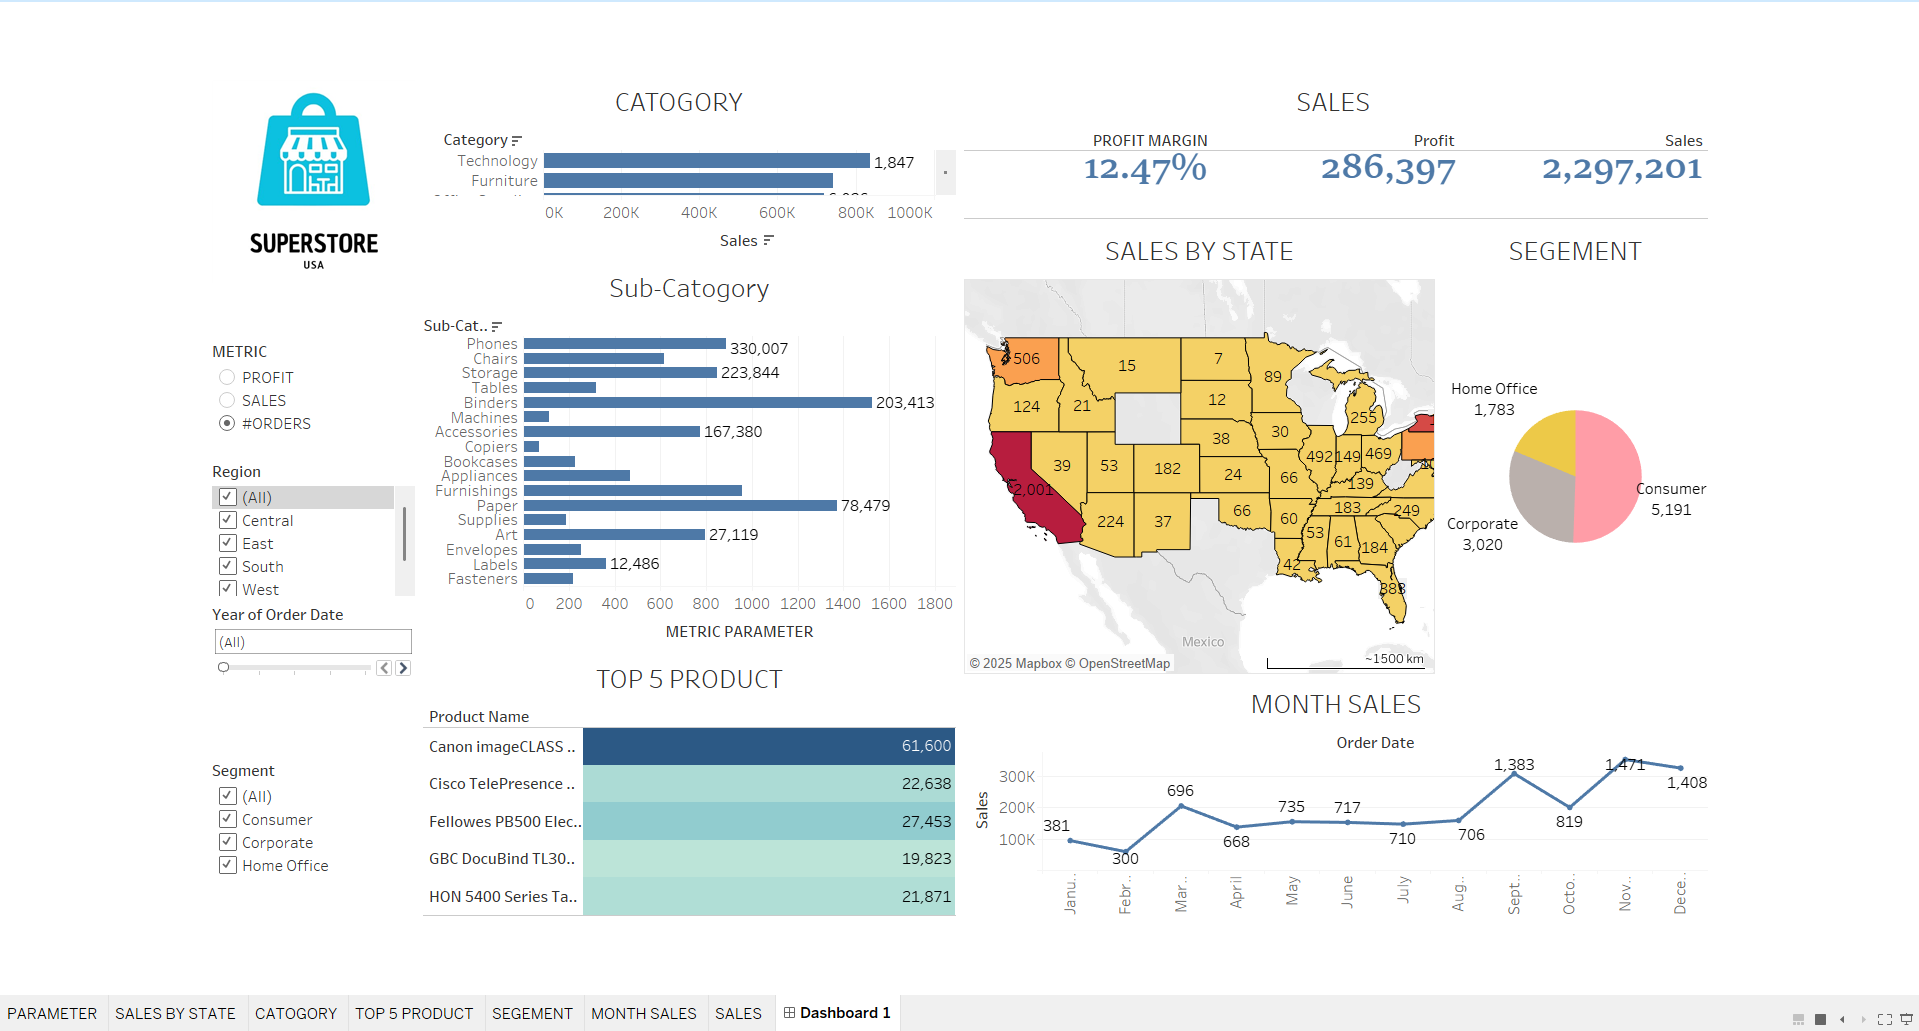

This screenshot's page, from the dashboard's own definition file:
{"tool":"tableau","page":{"name":"Dashboard 1","canvas":[1000,1000],"units":"permille","ordinal":0},"visuals":[{"type":"image","param":"Image/STORE IMAGE.jpg","box":[5.3,10,138.8,303]},{"type":"worksheet","title":"CATOGORY","mark":"Automatic","rows":["Category"],"cols":["Sales"],"box":[144.1,10,355.9,278]},{"type":"worksheet","title":"SALES ","mark":"Automatic","box":[500,10,494.7,245]},{"type":"worksheet","title":"SALES BY STATE","mark":"Automatic","box":[500,255,315.1,454.5]},{"type":"worksheet","title":"SEGEMENT","mark":"Pie","box":[815.1,255,179.7,454.5]},{"type":"worksheet","title":"PARAMETER","mark":"Automatic","rows":["Calculation_885801782291206144"],"cols":["Sub-Category"],"box":[144.1,288,355.9,346.7]},{"type":"parameter","param":"[Parameters].[Parameter 1]","box":[5.3,313,138.8,139.7]},{"type":"filter","title":"CATOGORY","param":"[federated.1yf2y2n0ebr9s113vox7b1q9b4ac].[none:Region:nk]","box":[5.3,452.6,138.8,165.8]},{"type":"filter","title":"PARAMETER","param":"[federated.1yf2y2n0ebr9s113vox7b1q9b4ac].[yr:Order Date:ok]","box":[5.3,618.5,138.8,180.8]},{"type":"worksheet","title":"TOP 5 PRODUCT","mark":"Automatic","rows":["Product Name"],"box":[144.1,634.6,355.9,355.4]},{"type":"worksheet","title":"MONTH SALES","mark":"Line","rows":["Sales"],"cols":["Order Date"],"box":[500,709.5,494.7,280.6]},{"type":"filter","title":"SEGEMENT","param":"[federated.1yf2y2n0ebr9s113vox7b1q9b4ac].[none:Segment:nk]","box":[5.3,799.2,138.8,190.8]}]}

Visuals, with their boxes on the dashboard's canvas, which has no fixed pixel size, in thousandths of its width and height (x1, y1, x2, y2). These are canvas units, not pixel positions in the 1919x1031 screenshot, which may show the page scaled, cropped or inside an application window:
image: bbox=(5, 10, 144, 313)
"CATOGORY" worksheet: bbox=(144, 10, 500, 288)
"SALES " worksheet: bbox=(500, 10, 995, 255)
"SALES BY STATE" worksheet: bbox=(500, 255, 815, 710)
"SEGEMENT" worksheet (Pie marks): bbox=(815, 255, 995, 710)
"PARAMETER" worksheet: bbox=(144, 288, 500, 635)
parameter: bbox=(5, 313, 144, 453)
"CATOGORY" filter: bbox=(5, 453, 144, 618)
"PARAMETER" filter: bbox=(5, 618, 144, 799)
"TOP 5 PRODUCT" worksheet: bbox=(144, 635, 500, 990)
"MONTH SALES" worksheet (Line marks): bbox=(500, 710, 995, 990)
"SEGEMENT" filter: bbox=(5, 799, 144, 990)
